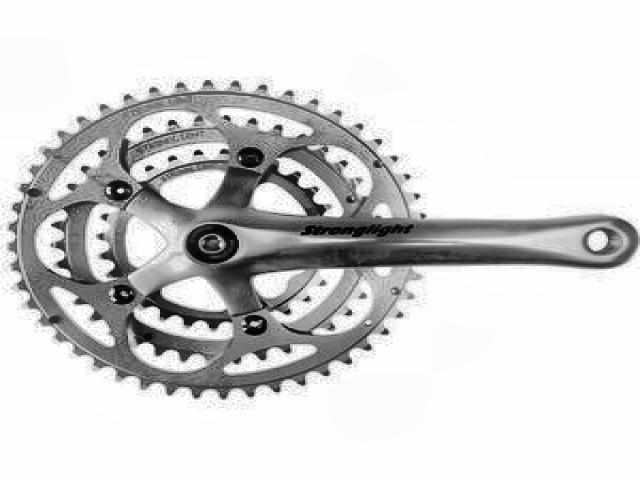cranks_set: (6, 81, 640, 403)
